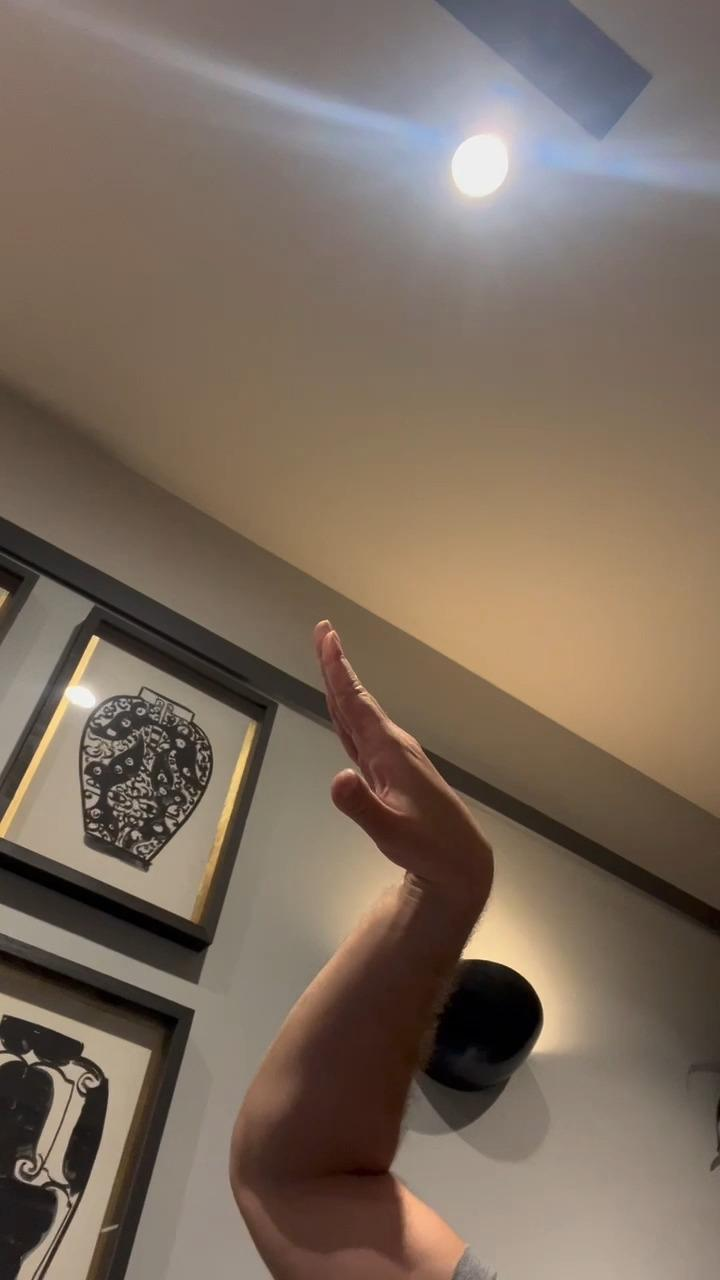Paper: (312, 621, 500, 914)
